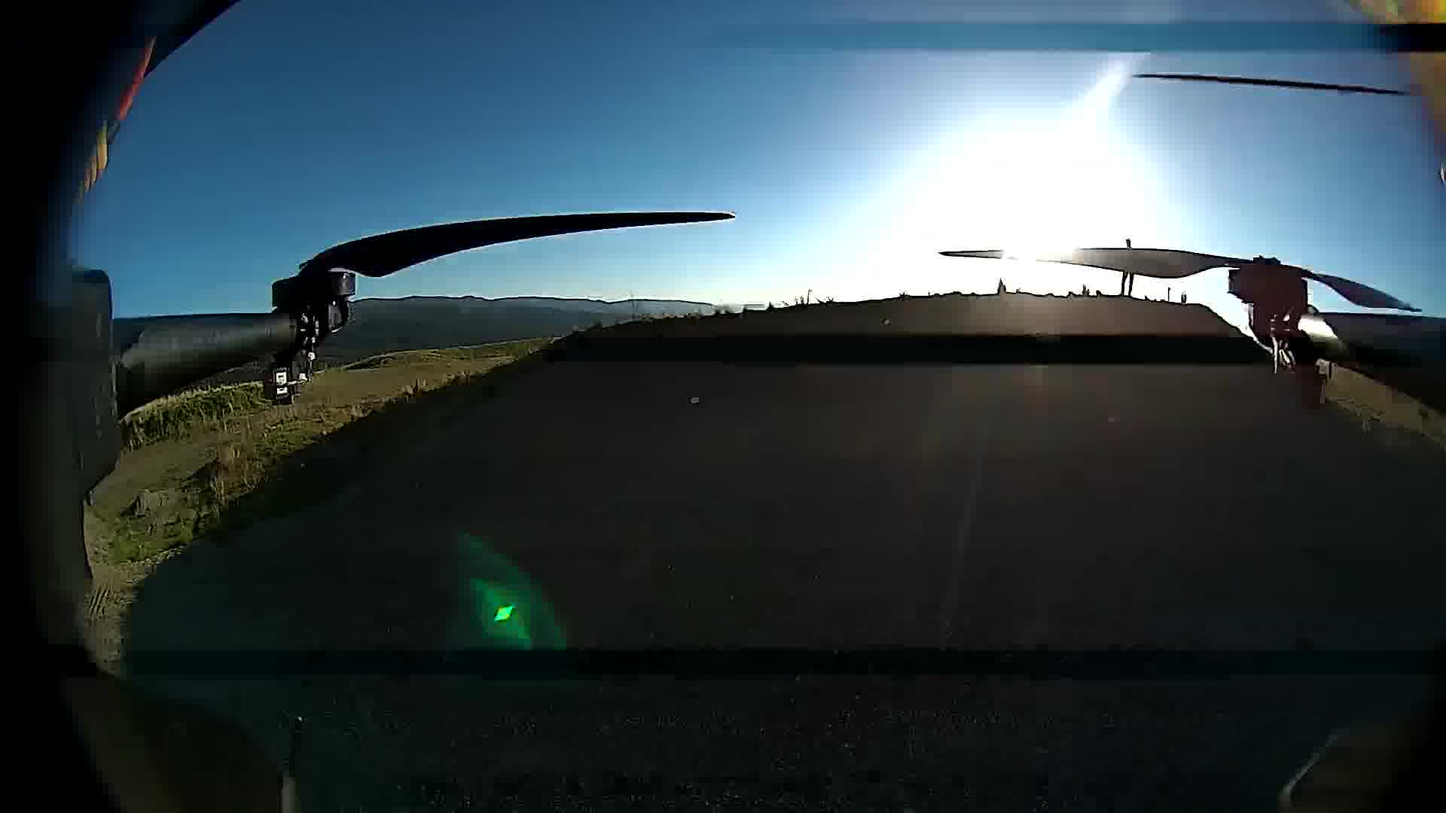Target: (690, 396, 701, 405), (882, 320, 893, 325)
